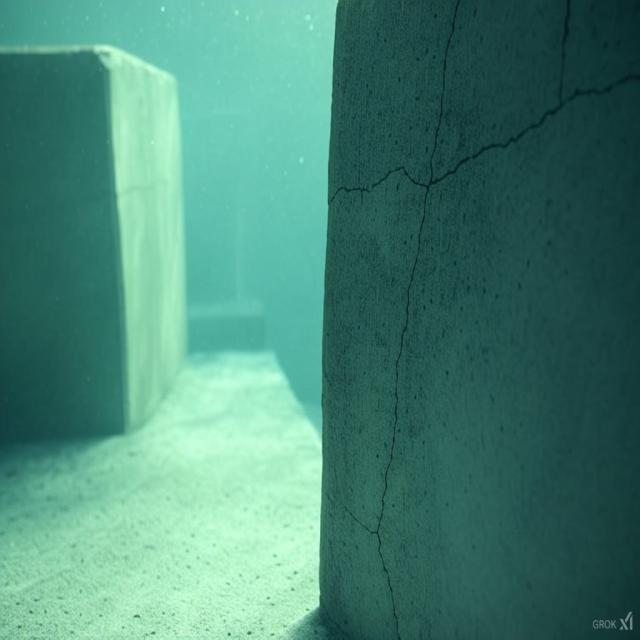crack: (428, 53, 639, 183), (377, 184, 427, 639), (424, 0, 482, 182), (332, 159, 429, 233)
